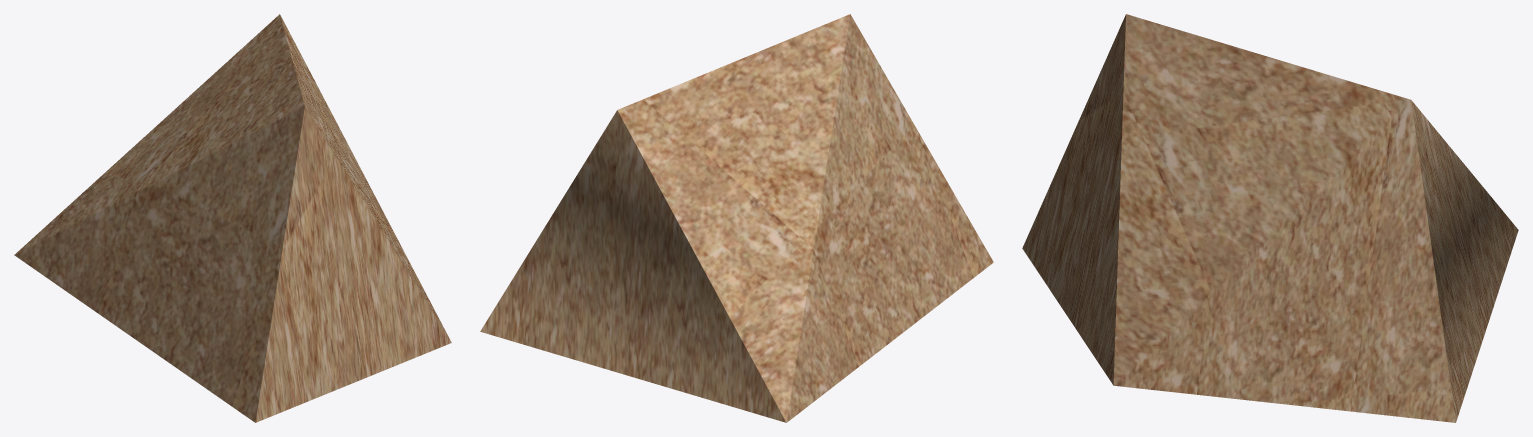
File: rock_pebbleclump_a3_l3.fbx
3 renders of one model, left to right at view 1: azimuth 30°, elevation 25°; view 2: azimuth 150°, elevation 25°; view 3: azimuth 270°, elevation 25°, orthographic. The views are drawn at different scales.
Visible parts, largest first — view 1: mesh_node; view 2: mesh_node; view 3: mesh_node.
Boxes of the visible parts, x1,y1,x2,y2 form: mesh_node: [14, 14, 451, 422]; mesh_node: [480, 14, 993, 422]; mesh_node: [1022, 14, 1518, 422].
Size of the model in its own units: 0.223 by 0.1701 by 0.2591.
